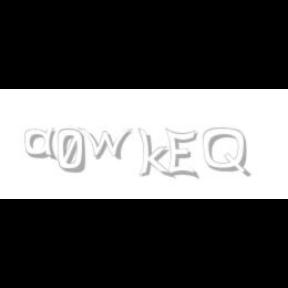0: (57, 128, 88, 174)
E: (166, 128, 198, 180)
Q: (203, 128, 249, 178)
a: (24, 128, 62, 160)
k: (137, 128, 175, 180)
w: (78, 128, 136, 160)
